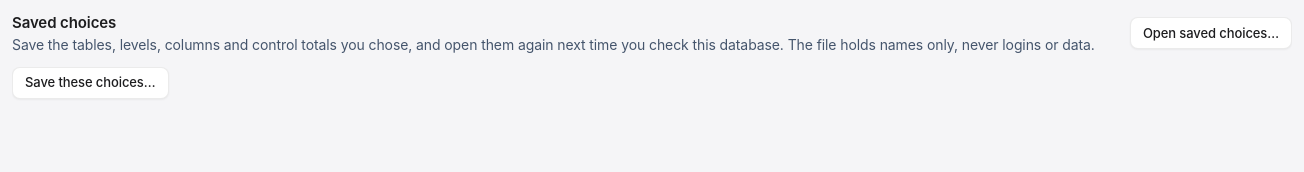
CheckChoicesFile › saves the chosen tables and shows where the file went
Click the button "Save these choices…".
click(90, 82)  # box 12,66 -> 168,98
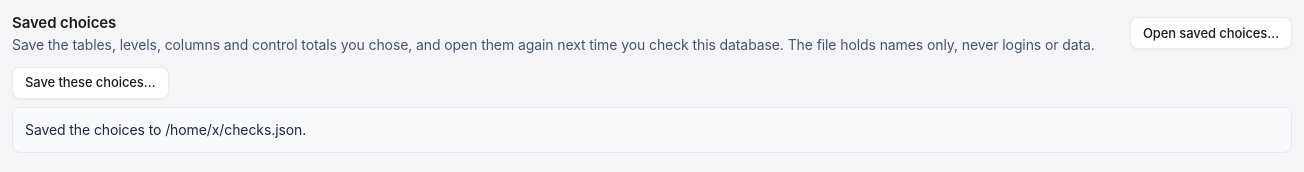
Expected: the text "Saved the choices to /home/x/checks.json." is shown, 25,120 -> 306,138
